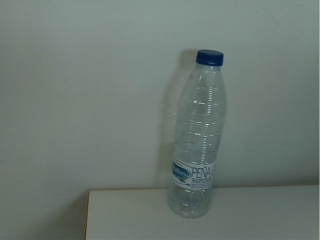botella plastico: (164, 48, 228, 219)
